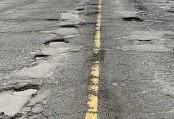pothole: (0, 83, 40, 119), (43, 37, 67, 45), (121, 15, 144, 23), (34, 53, 49, 61), (60, 24, 77, 29), (44, 17, 60, 21), (76, 7, 86, 12)
